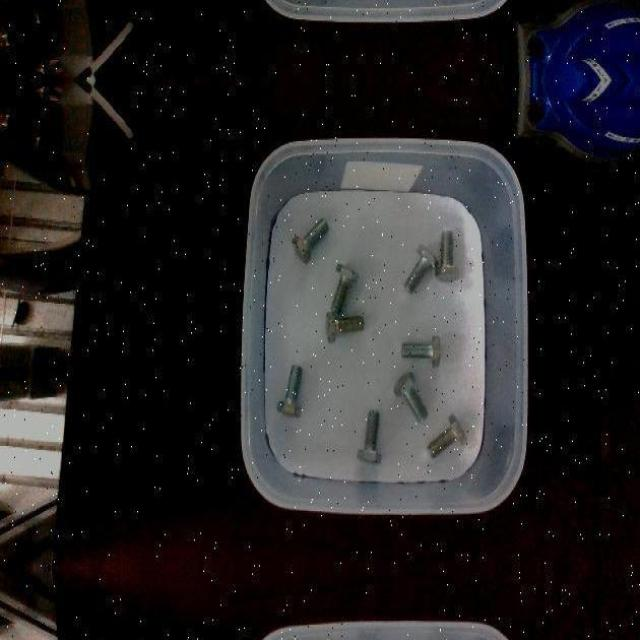screw: (426, 412, 466, 458), (393, 370, 428, 421), (292, 218, 329, 264), (404, 242, 438, 292), (330, 263, 358, 316), (276, 364, 303, 418), (357, 409, 381, 464), (435, 228, 459, 282), (401, 334, 440, 367), (324, 312, 363, 342)
